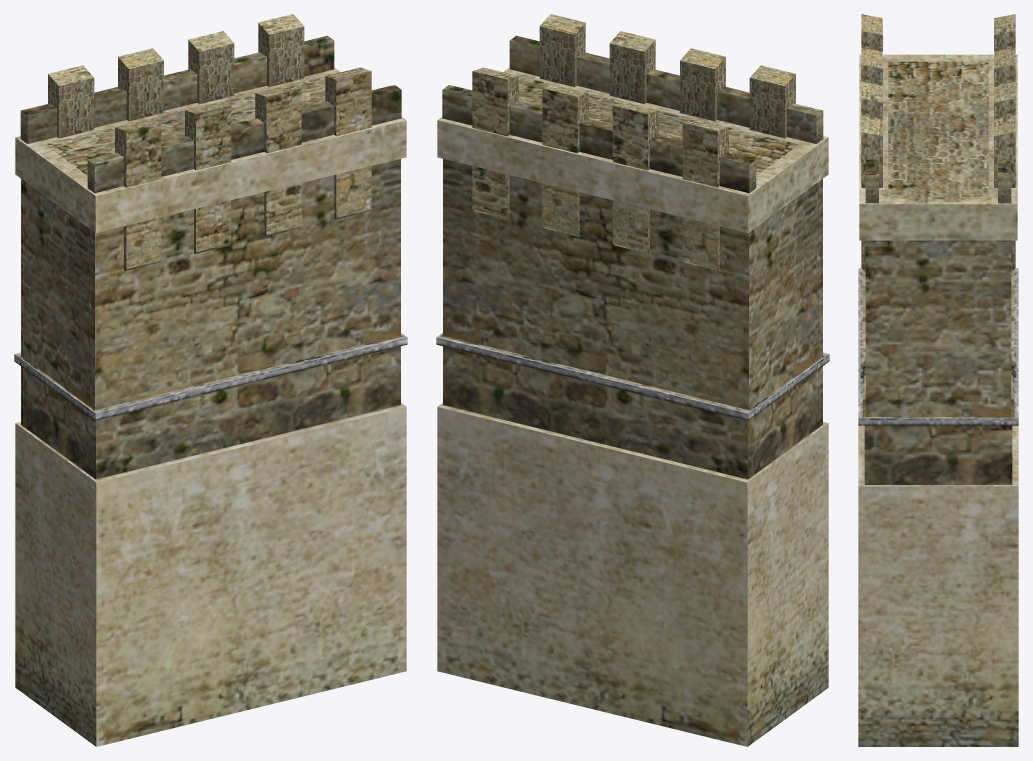
Rendered from s_hellenes_wall_short.glb.
3 views of the same model, side by side, from view 1: azimuth 30°, elevation 25°; view 2: azimuth 150°, elevation 25°; view 3: azimuth 270°, elevation 25° (orthographic).
Visible parts, largest first — view 1: s_hellenes_wall_short_part0; view 2: s_hellenes_wall_short_part0; view 3: s_hellenes_wall_short_part0.
Part boxes in pixels (bbox=[...]): s_hellenes_wall_short_part0: bbox=[14, 14, 407, 746]; s_hellenes_wall_short_part0: bbox=[436, 14, 829, 746]; s_hellenes_wall_short_part0: bbox=[858, 14, 1018, 746].
Size of the model in its own units: 3.1 by 5.77 by 1.4.
1 material, 1 textured.
